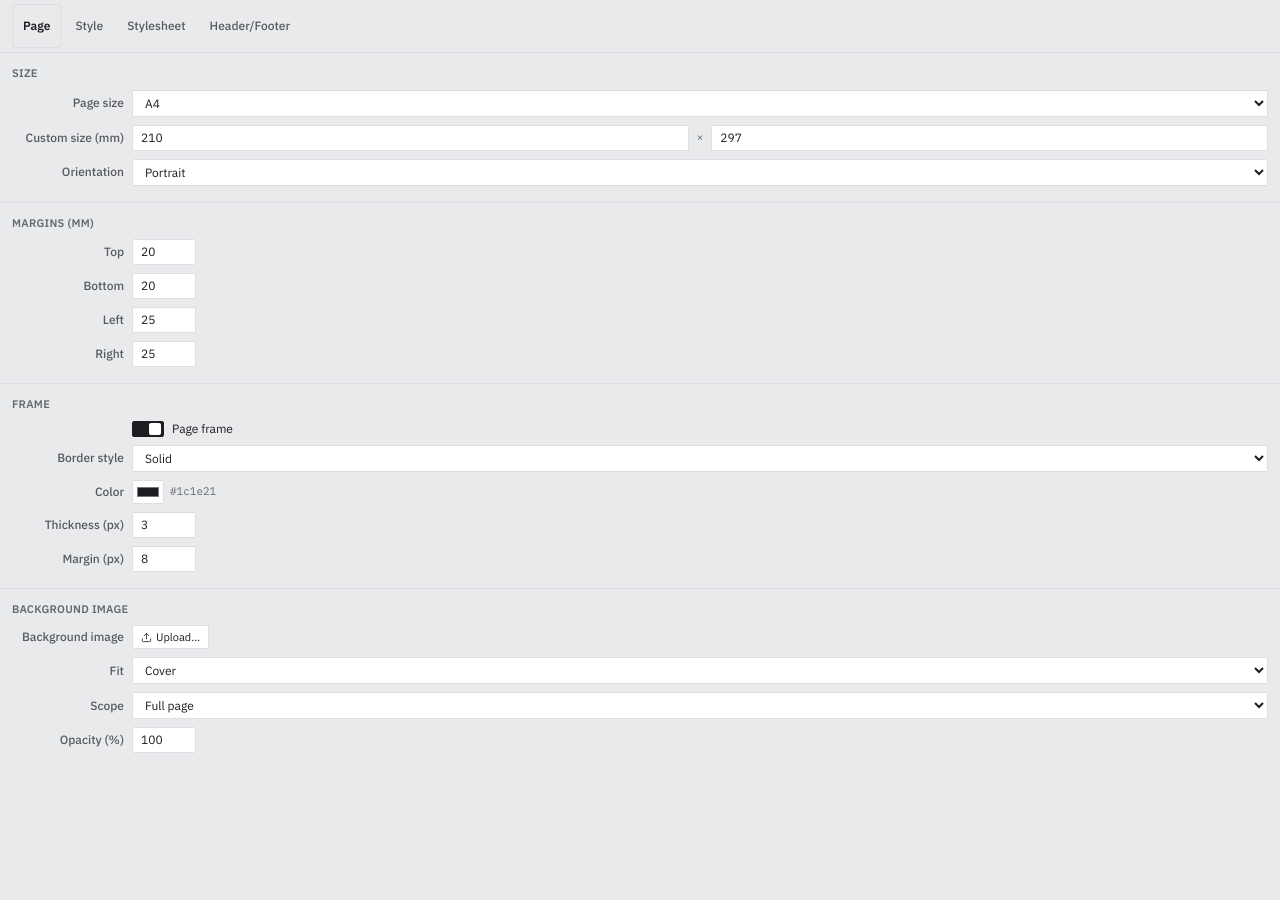
Scenario: the AI block — a turn and its proposal card › sends the box, swaps the box to the diff view, and writes the box only on Accept
Click the tab with aria-label "Custom stylesheet" at (156, 26), box [117, 4, 196, 48]
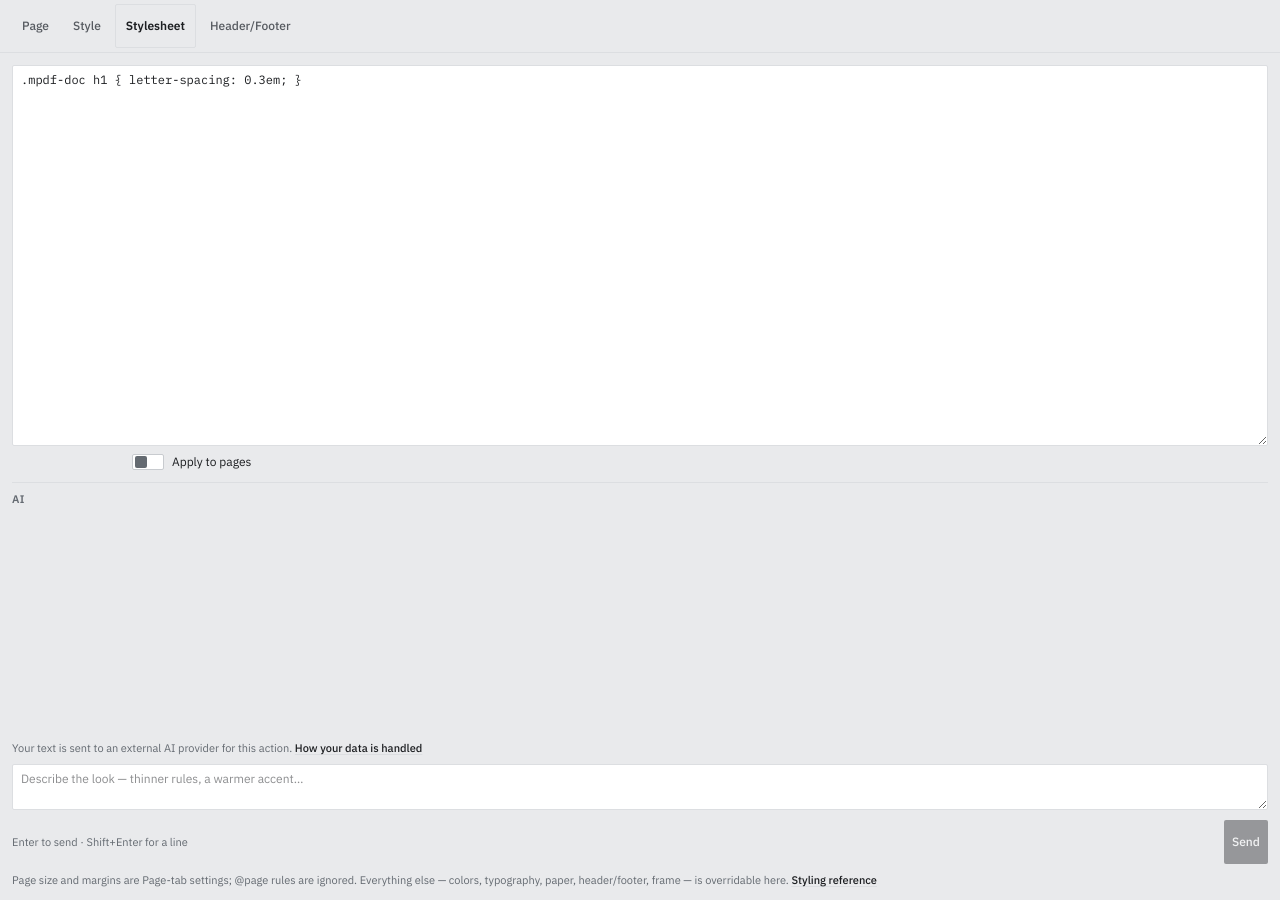
Type "tighter spacing" into the text box with test id "stylesheet-ai-input" at (640, 787), box [12, 764, 1268, 810]
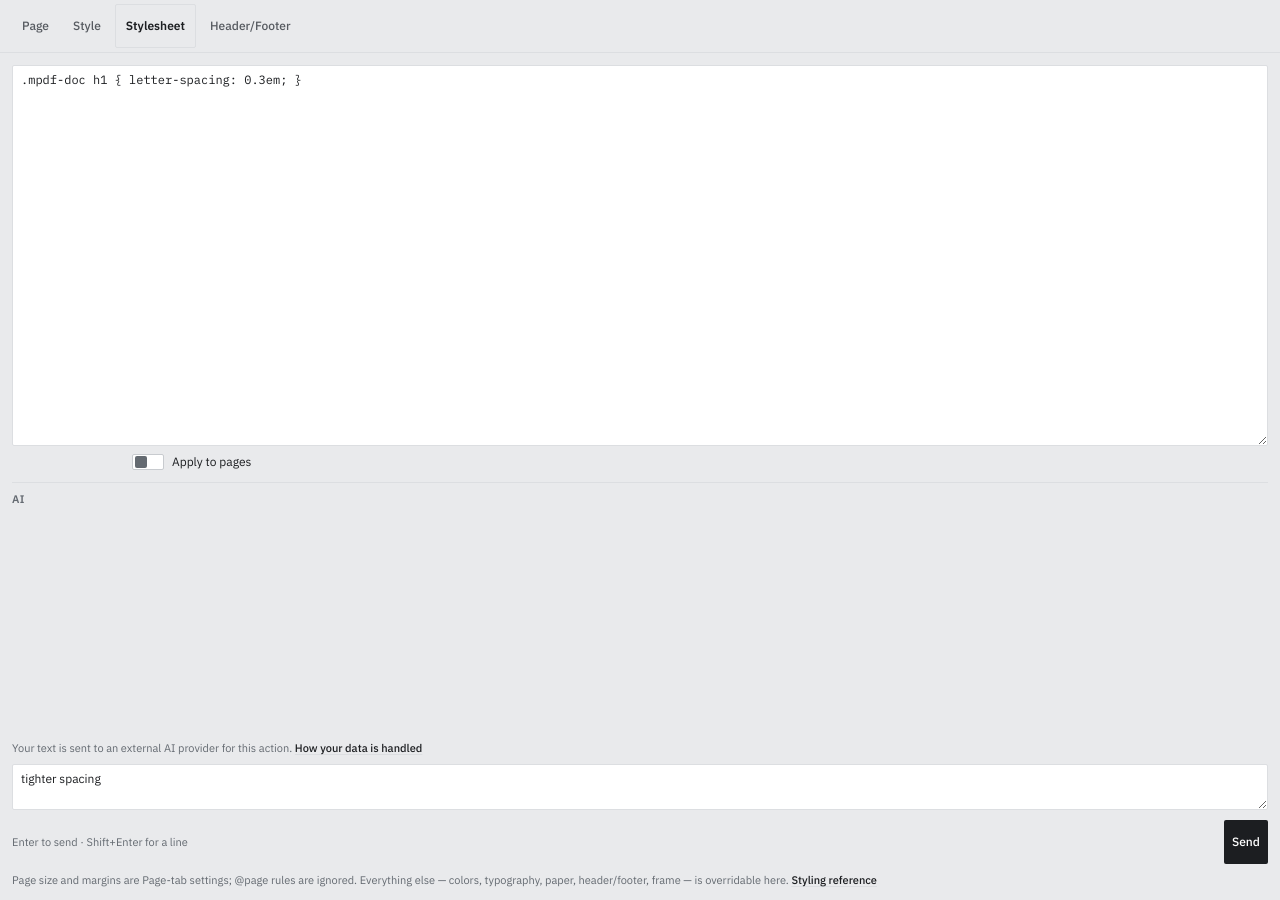
Click the button with test id "stylesheet-ai-send" at (1246, 842), box [1224, 820, 1268, 864]
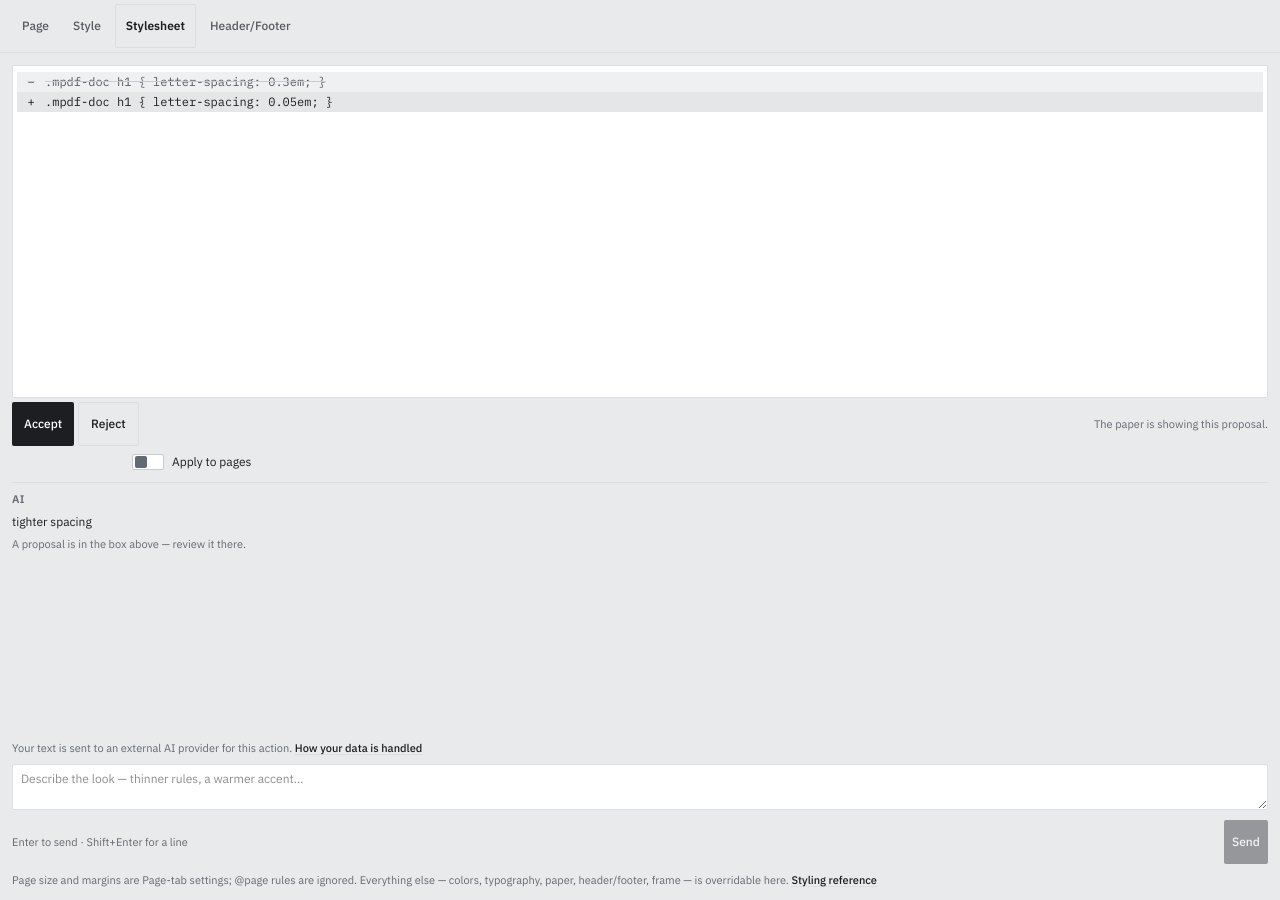
Check: the message with test id "stylesheet-box-diff" shows ".mpdf-doc h1 { letter-spacing: 0.3em; }", box [45, 74, 326, 89]
Check: the message with test id "stylesheet-box-diff" shows ".mpdf-doc h1 { letter-spacing: 0.05em; }", box [45, 94, 333, 109]
Check: the text box with test id "stylesheet-box" is gone
Click the button with test id "stylesheet-ai-accept" at (43, 424), box [12, 402, 74, 446]
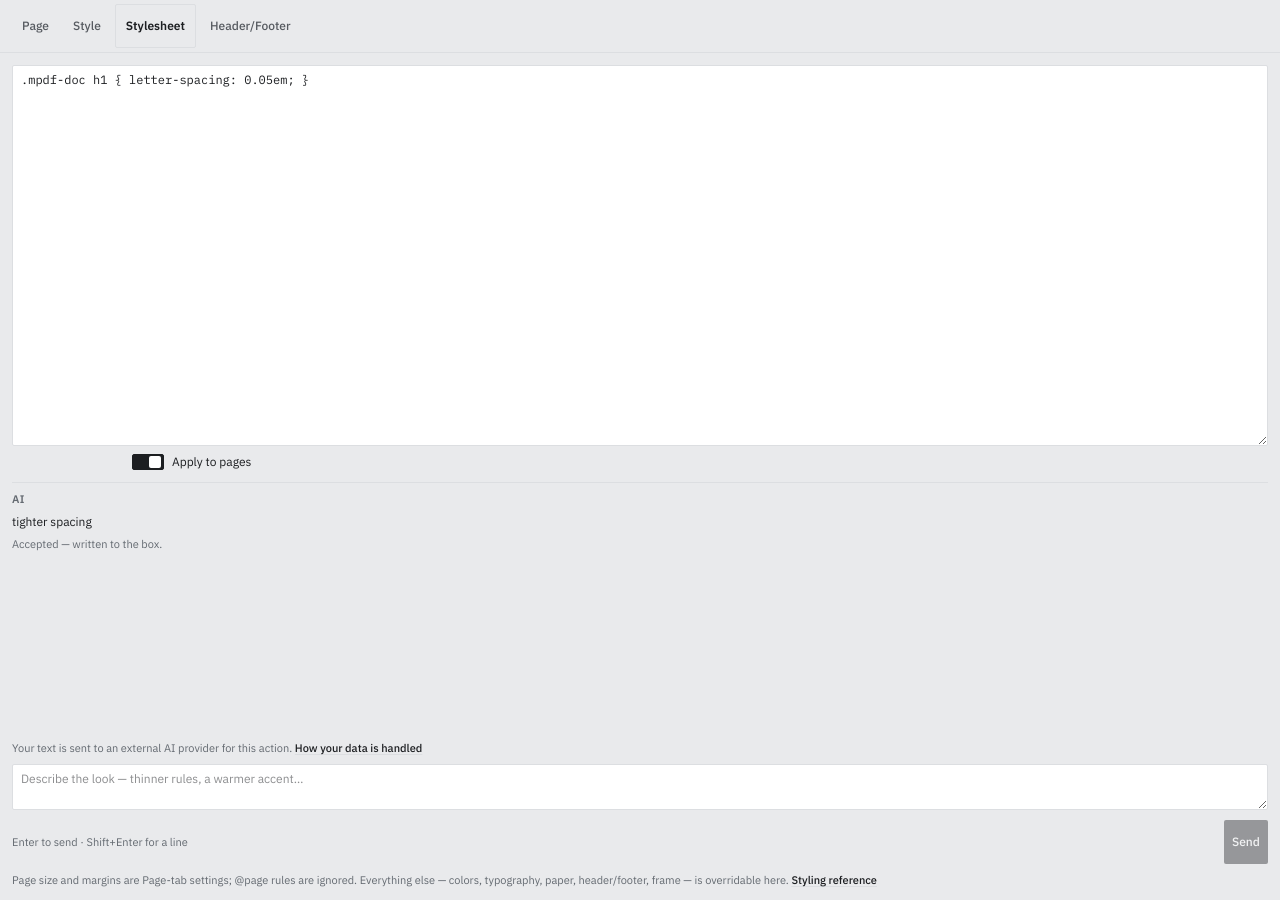
Check: the text box with test id "stylesheet-box" holds ".mpdf-doc h1 { letter-spacing: 0.05em; }", box [12, 65, 1268, 446]
Check: the text with test id "stylesheet-ai-decision" shows "Accepted", box [12, 537, 162, 551]
